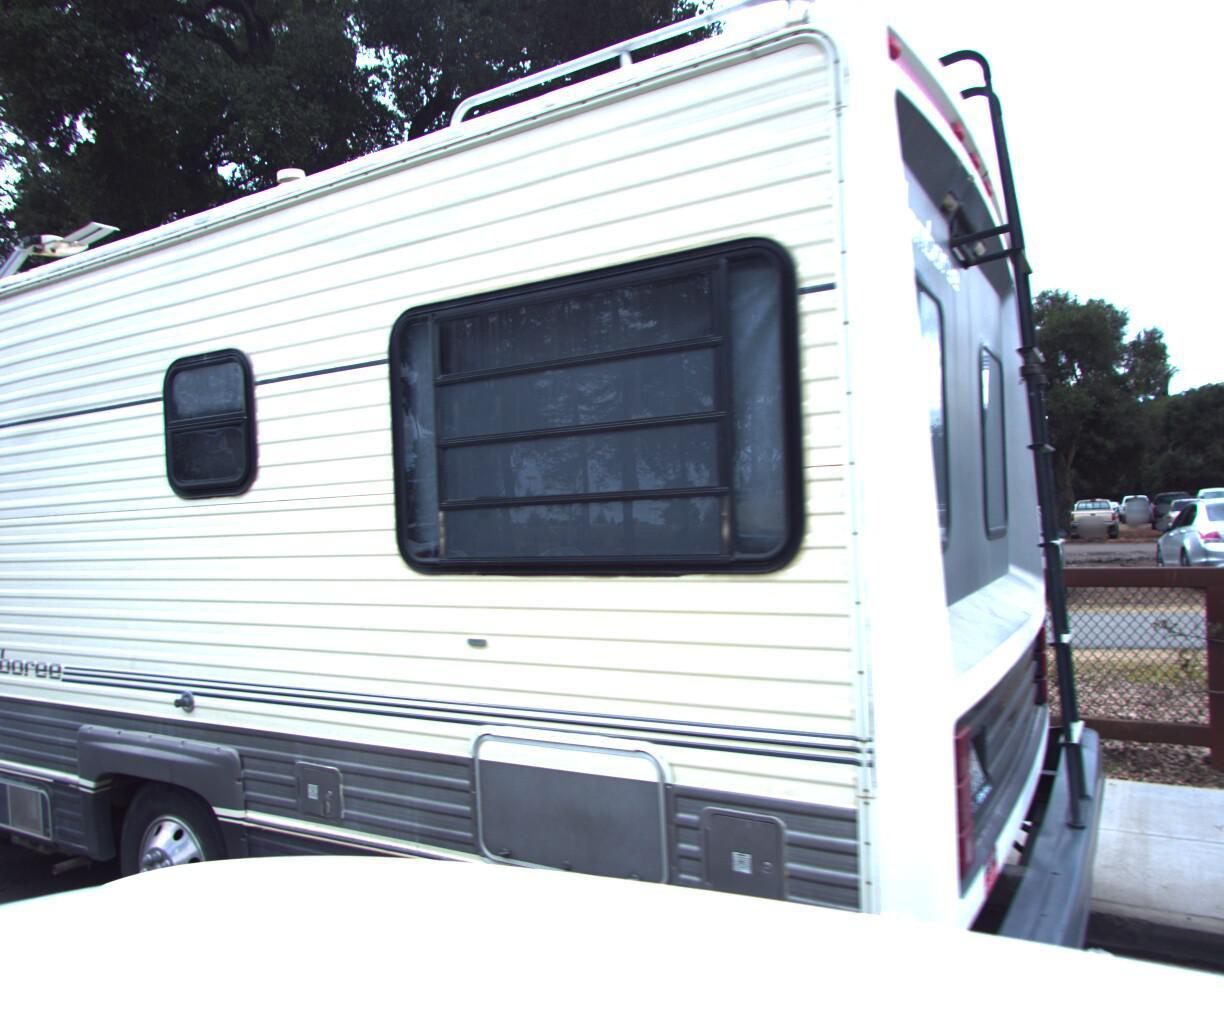car: (944, 505, 1069, 613)
other_vehicle: (0, 0, 1095, 1024)
